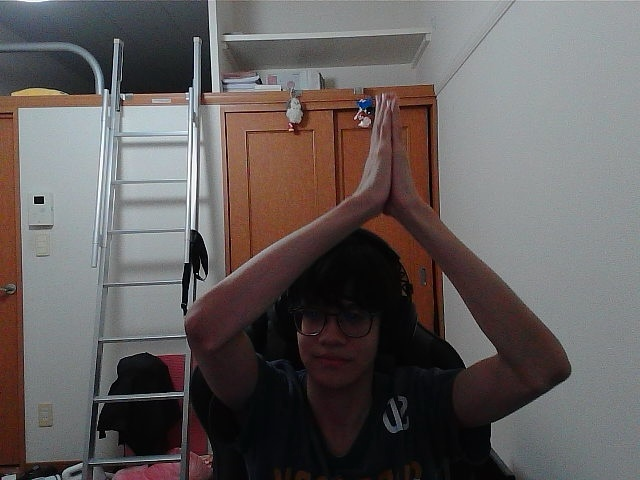pray: (372, 102, 386, 188)
